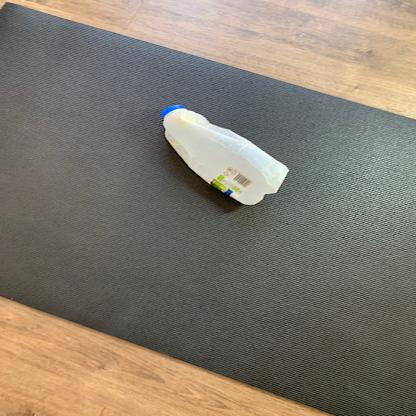trash: (164, 102, 288, 208)
